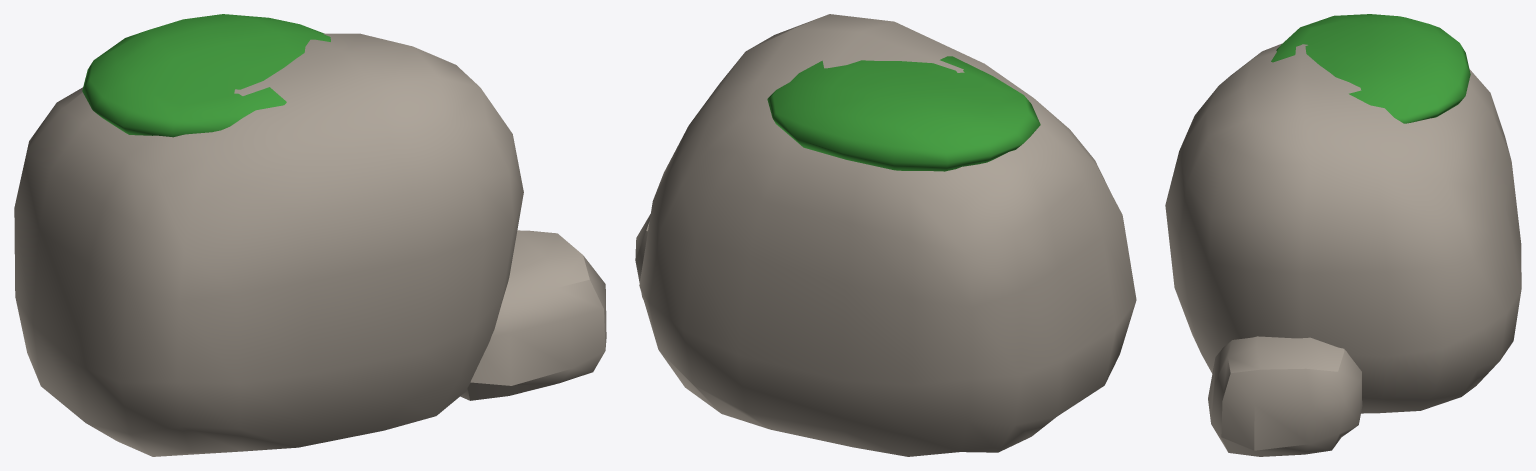
File: rock.glb
The picture shows the model from 3 angles, left to right: view 1: azimuth 30°, elevation 25°; view 2: azimuth 150°, elevation 25°; view 3: azimuth 270°, elevation 25°; orthographic projection. The views are drawn at different scales.
Visible parts, largest first — view 1: rock; view 2: rock; view 3: rock.
Boxes of the visible parts, x1,y1,x2,y2 form: rock: (14,14,606,456); rock: (635,14,1136,456); rock: (1165,14,1521,456).
Size of the model in its own units: 0.9717 by 0.6243 by 0.6966.
